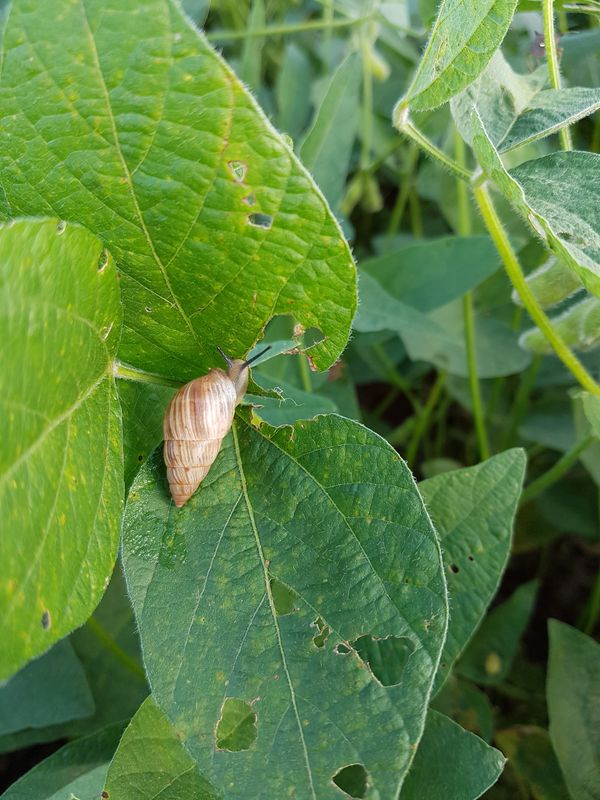Gastropoda: (144, 336, 286, 516)
